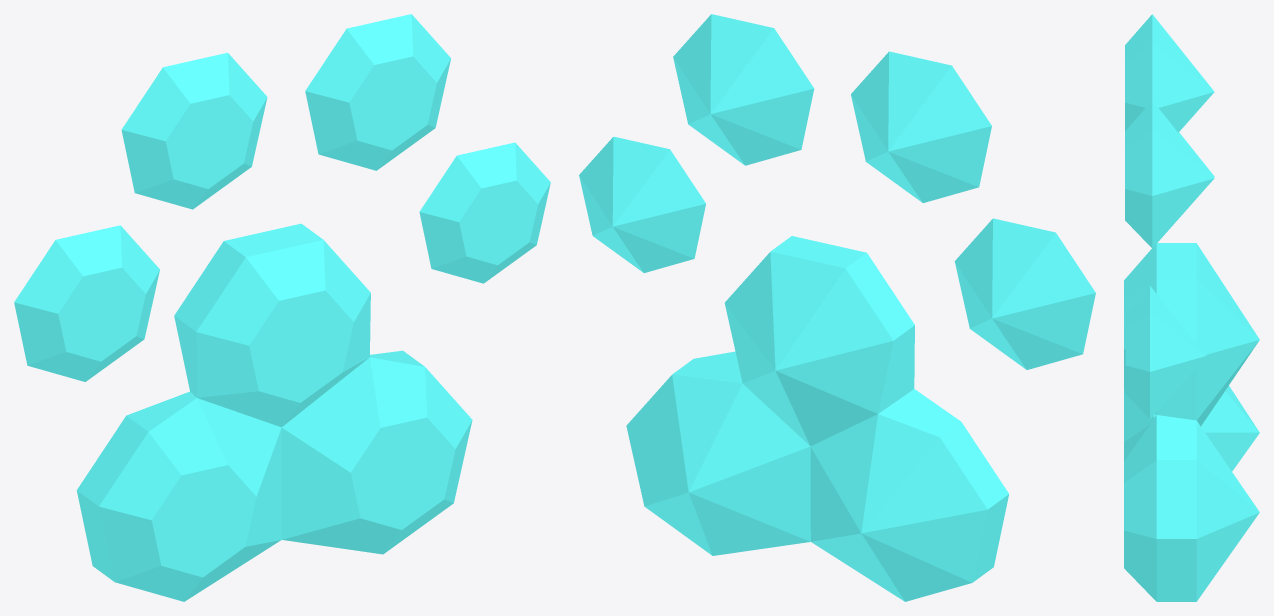
Rendered from panel_bonus.glb.
3 renders of one model, left to right at view 1: azimuth 30°, elevation 25°; view 2: azimuth 150°, elevation 25°; view 3: azimuth 270°, elevation 25°, orthographic. The views are drawn at different scales.
Parts seen in each view (by area): view 1: panel_bonus; view 2: panel_bonus; view 3: panel_bonus.
Part boxes in pixels (x1,y1,x2,y2): panel_bonus: [14, 14, 550, 601]; panel_bonus: [579, 14, 1095, 601]; panel_bonus: [1124, 14, 1259, 601].
Bounding box in the file's own units: 0.7163 × 0.6944 × 0.1747.
